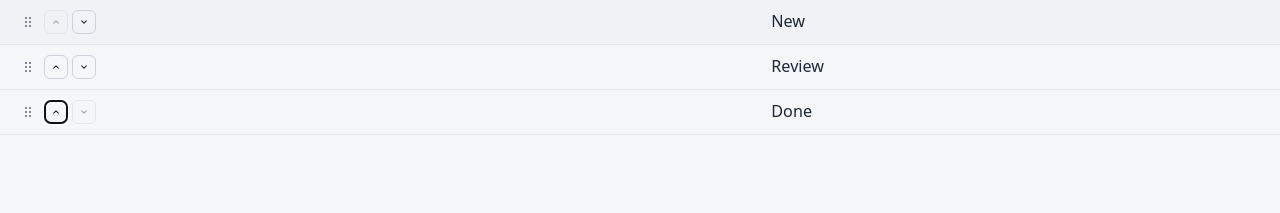
a refused save › puts the rows back and shows the message
What coordinates should you click on to do the following:
click the button named "Move Done up"
I would click on:
 (56, 112)
Its box is x1=44 y1=100 x2=68 y2=124.
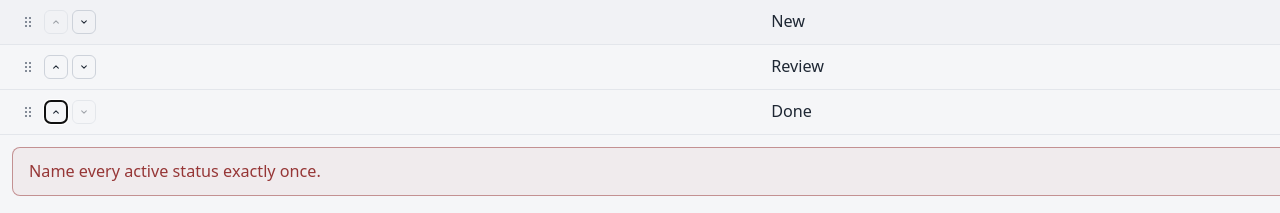
Now the message reads "Name every active status exactly once.", box x1=29 y1=160 x2=321 y2=182
